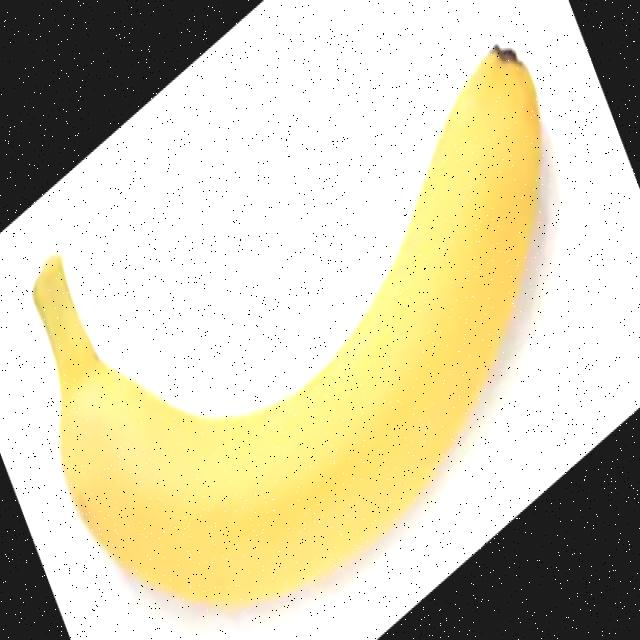god quality banana: (33, 51, 542, 604)
